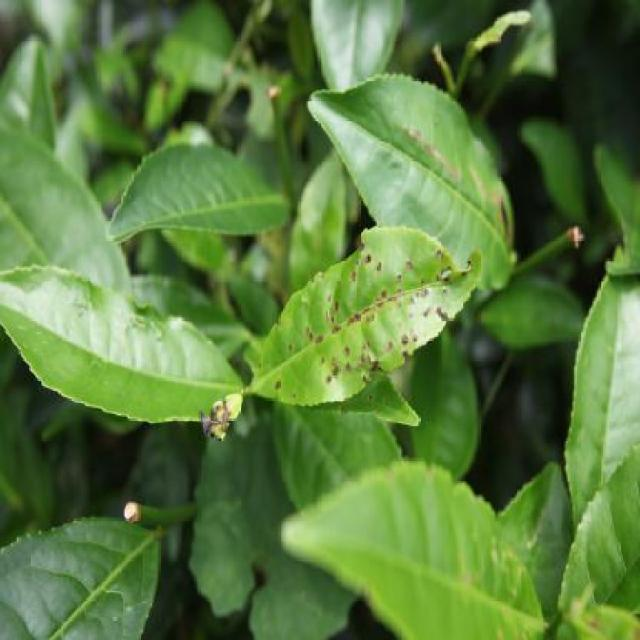Tea Mosquito bug infested leaf: (218, 218, 508, 418)
